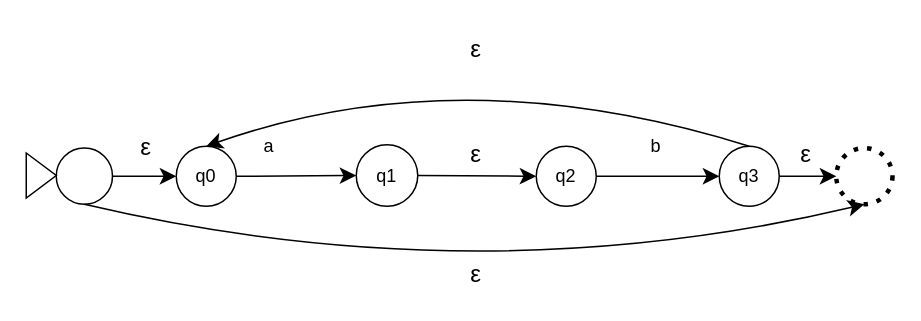
This 921x321 diagram has some shape labels left out. Here are the shapes that lost their labels. From the top down, the centre of each, then its label:
At point (83, 175): "q4".
At point (863, 175): "q5".
